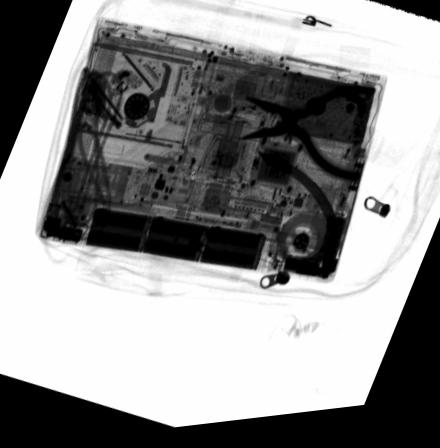Pliers: (236, 94, 375, 192)
